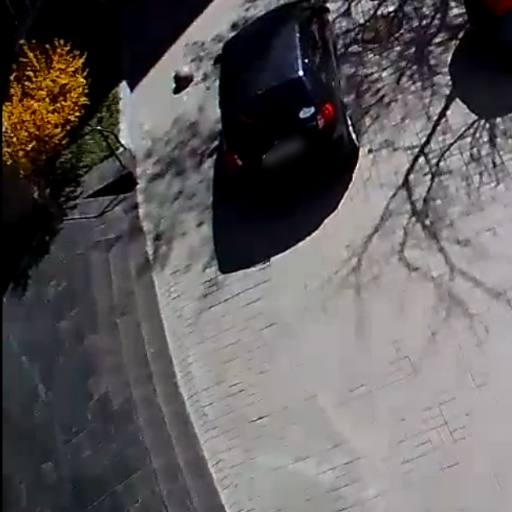Car: (217, 0, 359, 177)
